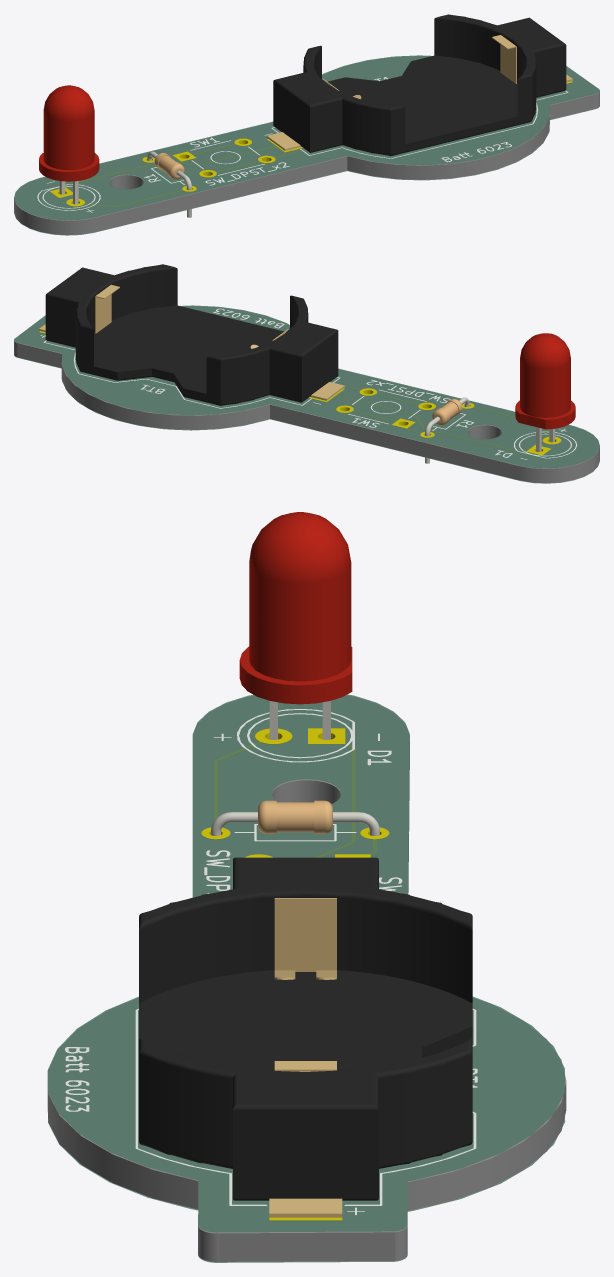
Rendered from LED_BOARD.glb.
3 views of the same model, one above another, from view 1: azimuth 30°, elevation 25°; view 2: azimuth 150°, elevation 25°; view 3: azimuth 270°, elevation 25° (orthographic). The views are drawn at different scales.
Parts seen in each view (by area): view 1: BT1, =>[0:1:1:8], =>[0:1:1:7], D1, =>[0:1:1:6], =>[0:1:1:5], R1; view 2: BT1, =>[0:1:1:8], =>[0:1:1:7], D1, =>[0:1:1:6], =>[0:1:1:5], R1; view 3: BT1, =>[0:1:1:8], =>[0:1:1:7], D1, =>[0:1:1:6], R1, =>[0:1:1:5].
Part boxes in pixels (<box>): BT1: <box>267,14,572,155</box>; =>[0:1:1:8]: <box>14,56,599,234</box>; =>[0:1:1:7]: <box>14,55,599,235</box>; D1: <box>39,85,99,204</box>; =>[0:1:1:6]: <box>37,77,568,212</box>; =>[0:1:1:5]: <box>50,81,572,206</box>; R1: <box>147,151,191,217</box>; BT1: <box>39,264,344,405</box>; =>[0:1:1:8]: <box>14,306,599,483</box>; =>[0:1:1:7]: <box>14,305,599,483</box>; D1: <box>515,333,575,451</box>; =>[0:1:1:6]: <box>40,308,577,459</box>; =>[0:1:1:5]: <box>39,331,561,455</box>; R1: <box>425,397,469,463</box>; BT1: <box>139,857,472,1217</box>; =>[0:1:1:8]: <box>47,696,566,1261</box>; =>[0:1:1:7]: <box>47,694,565,1262</box>; D1: <box>239,512,352,739</box>; =>[0:1:1:6]: <box>65,709,477,1214</box>; R1: <box>210,800,379,835</box>; =>[0:1:1:5]: <box>201,728,389,1220</box>.
Size of the model in its own units: 0.0616 by 0.0146 by 0.0249.
